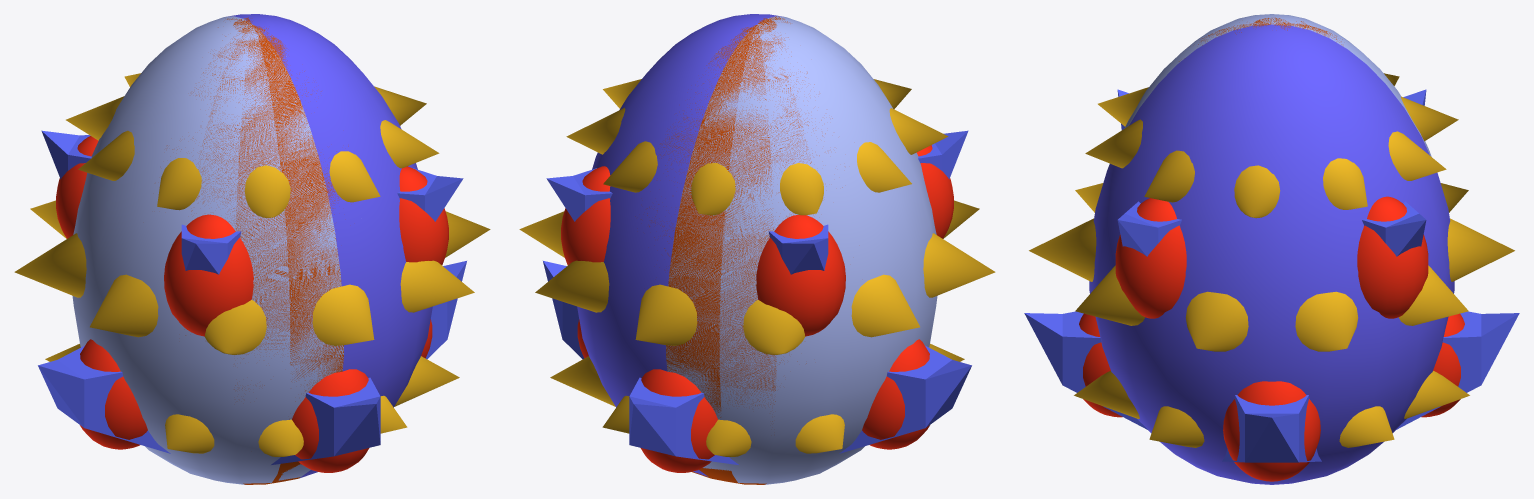
Rendered from Dragon Egg.fbx.
3 renders of one model, left to right at view 1: azimuth 30°, elevation 25°; view 2: azimuth 150°, elevation 25°; view 3: azimuth 270°, elevation 25°, orthographic.
Parts seen in each view (by area): view 1: pCube10, pCone51, polySurface10; view 2: pCube10, pCone51, polySurface10; view 3: polySurface10, pCone51, pCube10.
Part boxes in pixels (x1,y1,x2,y2): pCube10: (38, 16, 466, 484); pCone51: (14, 17, 490, 484); polySurface10: (56, 14, 448, 478); pCube10: (543, 16, 971, 484); pCone51: (519, 16, 995, 484); polySurface10: (561, 14, 953, 476); polySurface10: (1079, 24, 1464, 484); pCone51: (1029, 17, 1514, 447); pCube10: (1024, 14, 1519, 462).
Bounding box in the file's own units: 428 × 422 × 428.
